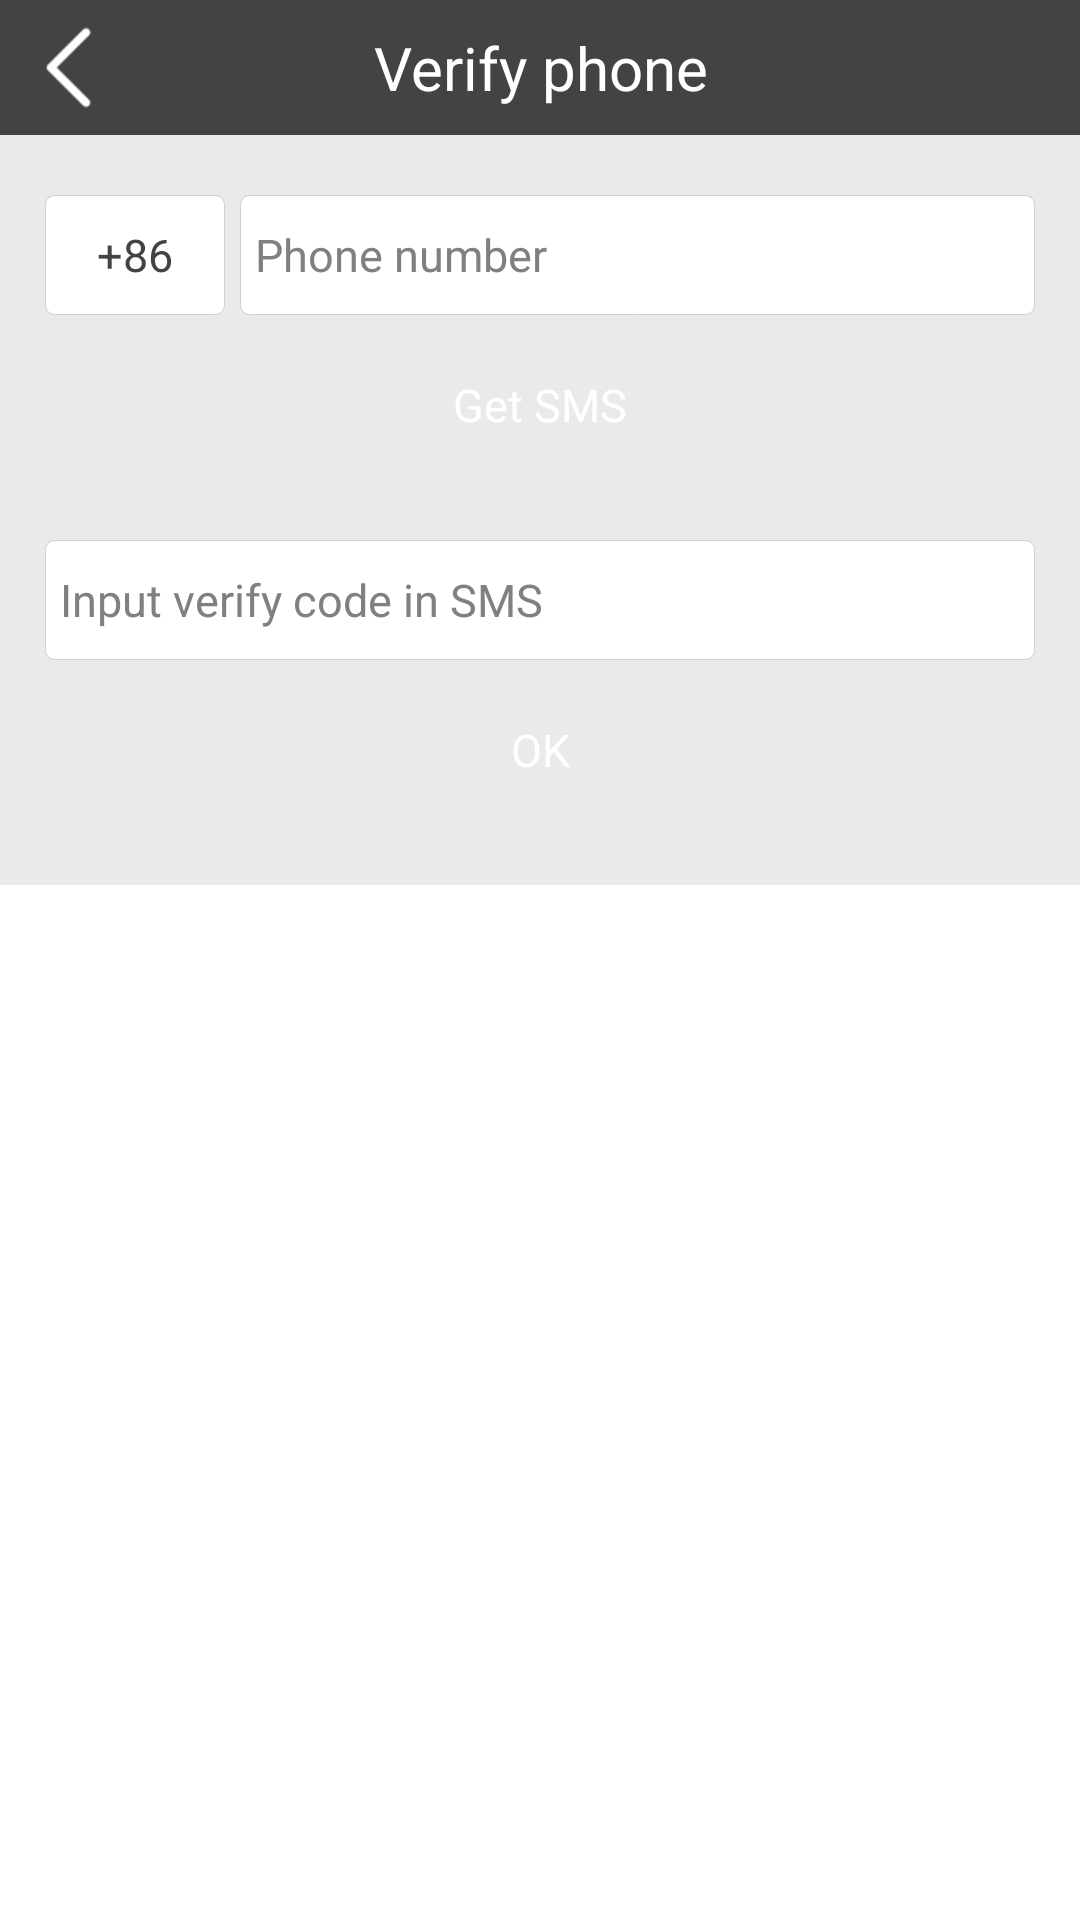

Named icons in this screenshot (1080 x 1920) and their bounding boxes, (x1, y1, x2, y2):
arrow left: (46, 27, 91, 108)
